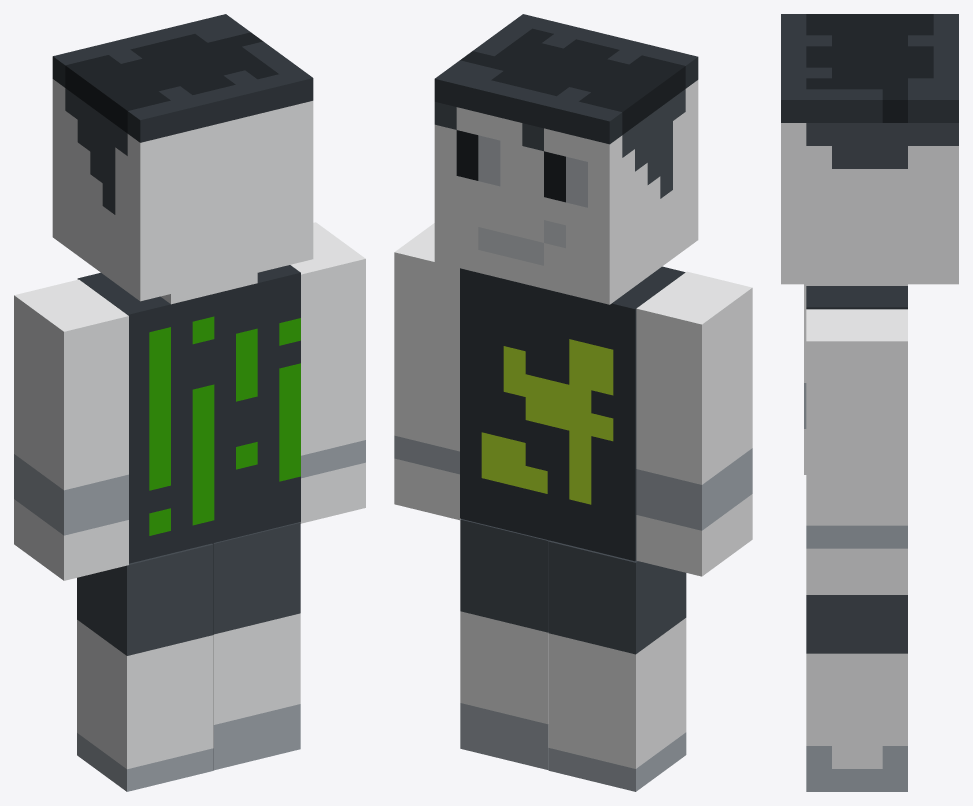
Rendered from character-3-ani-export.glb.
3 renders of one model, left to right at view 1: azimuth 30°, elevation 25°; view 2: azimuth 150°, elevation 25°; view 3: azimuth 270°, elevation 25°, orthographic.
Parts seen in each view (by area): view 1: head, body, right_hand, right_leg, left_leg, left_hand; view 2: head, body, right_hand, right_leg, left_leg, left_hand; view 3: head, left_hand, left_leg, body, right_hand.
Part boxes in pixels (left/top/right/bottom): head: left=52, top=14, right=313, bottom=301; body: left=77, top=265, right=300, bottom=563; right_hand: left=14, top=279, right=128, bottom=580; right_leg: left=77, top=543, right=213, bottom=791; left_leg: left=212, top=522, right=300, bottom=770; left_hand: left=290, top=222, right=365, bottom=523; head: left=434, top=14, right=698, bottom=304; body: left=460, top=266, right=685, bottom=561; right_hand: left=636, top=271, right=752, bottom=576; right_leg: left=548, top=540, right=686, bottom=791; left_leg: left=460, top=519, right=549, bottom=769; left_hand: left=394, top=223, right=460, bottom=520; head: left=781, top=14, right=958, bottom=284; left_hand: left=806, top=309, right=907, bottom=594; left_leg: left=806, top=595, right=907, bottom=791; body: left=806, top=284, right=907, bottom=309; right_hand: left=804, top=284, right=806, bottom=474.
Bounding box in the file's own units: 14 × 30.06 × 7.
